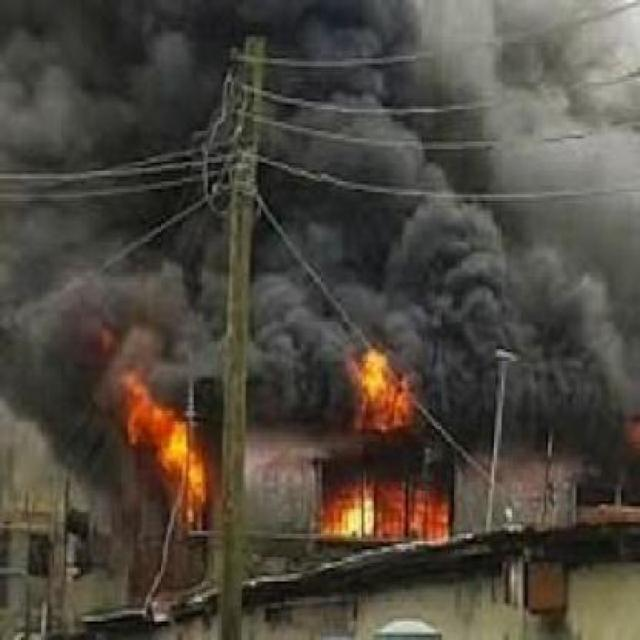Fire: (80, 277, 499, 571)
Smoke: (61, 0, 536, 315)
